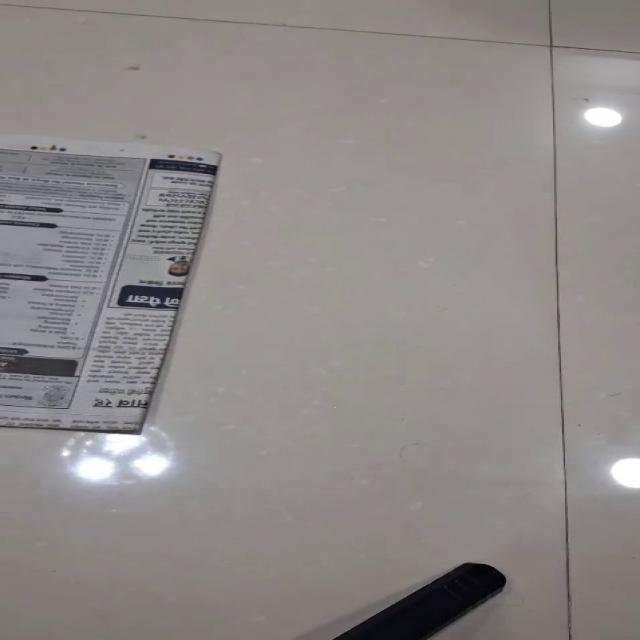paper: (0, 133, 222, 435)
